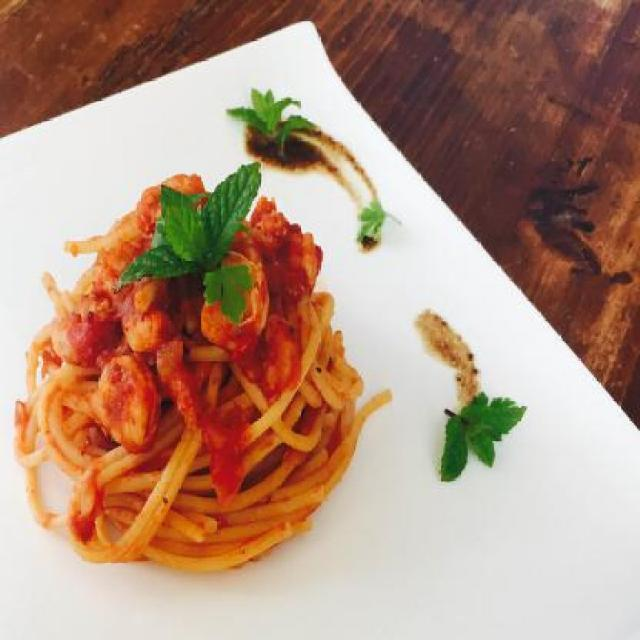Pasta al ragu: (18, 132, 436, 568)
